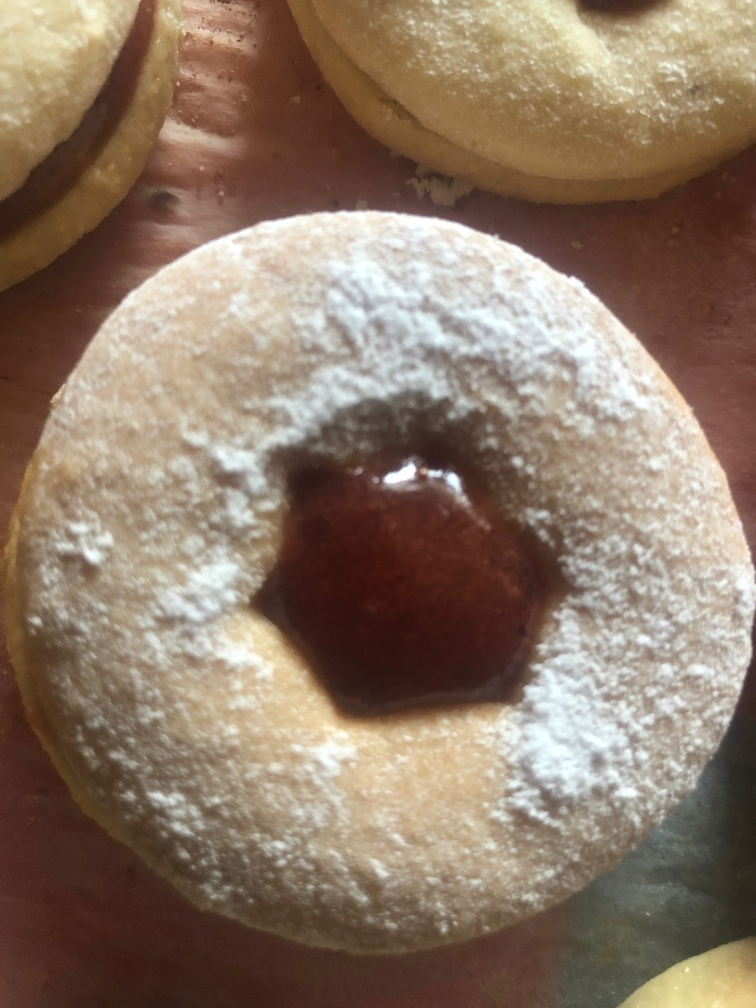christmas shortbread with jam: (10, 204, 753, 958), (276, 1, 756, 212), (1, 1, 177, 293)
